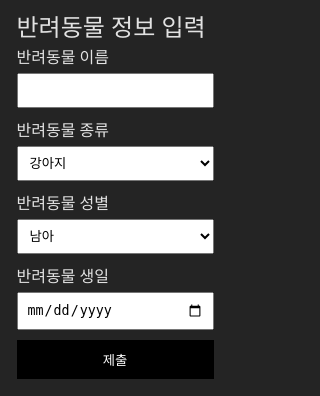
Scenario: App › 폼 입력 후 제출하면 결과 화면에 값이 보인다
Type "초코" into the field labelled "반려동물 이름" at (115, 91), box [16,73,214,108]
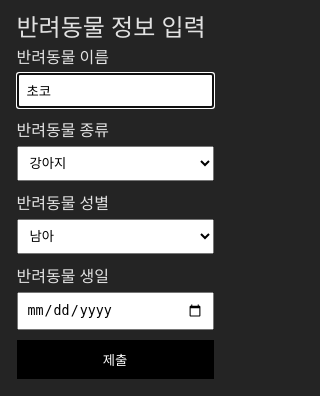
Select "고양이" in the dropdown labelled "반려동물 종류" at (115, 164), box [16,146,214,181]
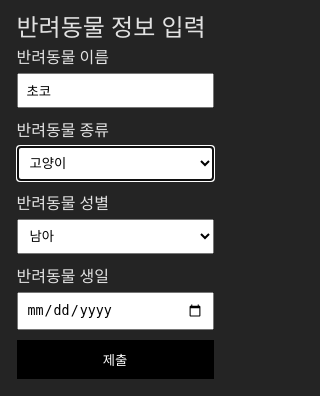
Select "여아" in the dropdown labelled "반려동물 성별" at (115, 237), box [16,219,214,254]
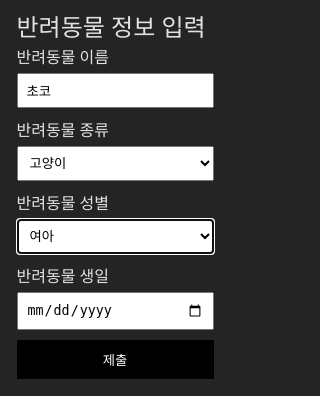
Type "2020-01-01" into the date field labelled "반려동물 생일" at (115, 311), box [16,292,214,330]
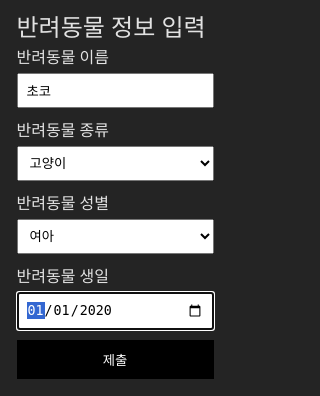
제출 버튼 클릭
Click the button "제출" at (115, 359), box [16,340,214,379]
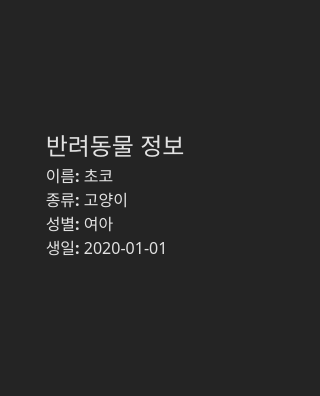
Expected: the text "초코" is shown, [84,165,113,187]
Expected: the text "고양이" is shown, [84,189,128,211]
Expected: the text "여아" is shown, [84,213,113,235]
